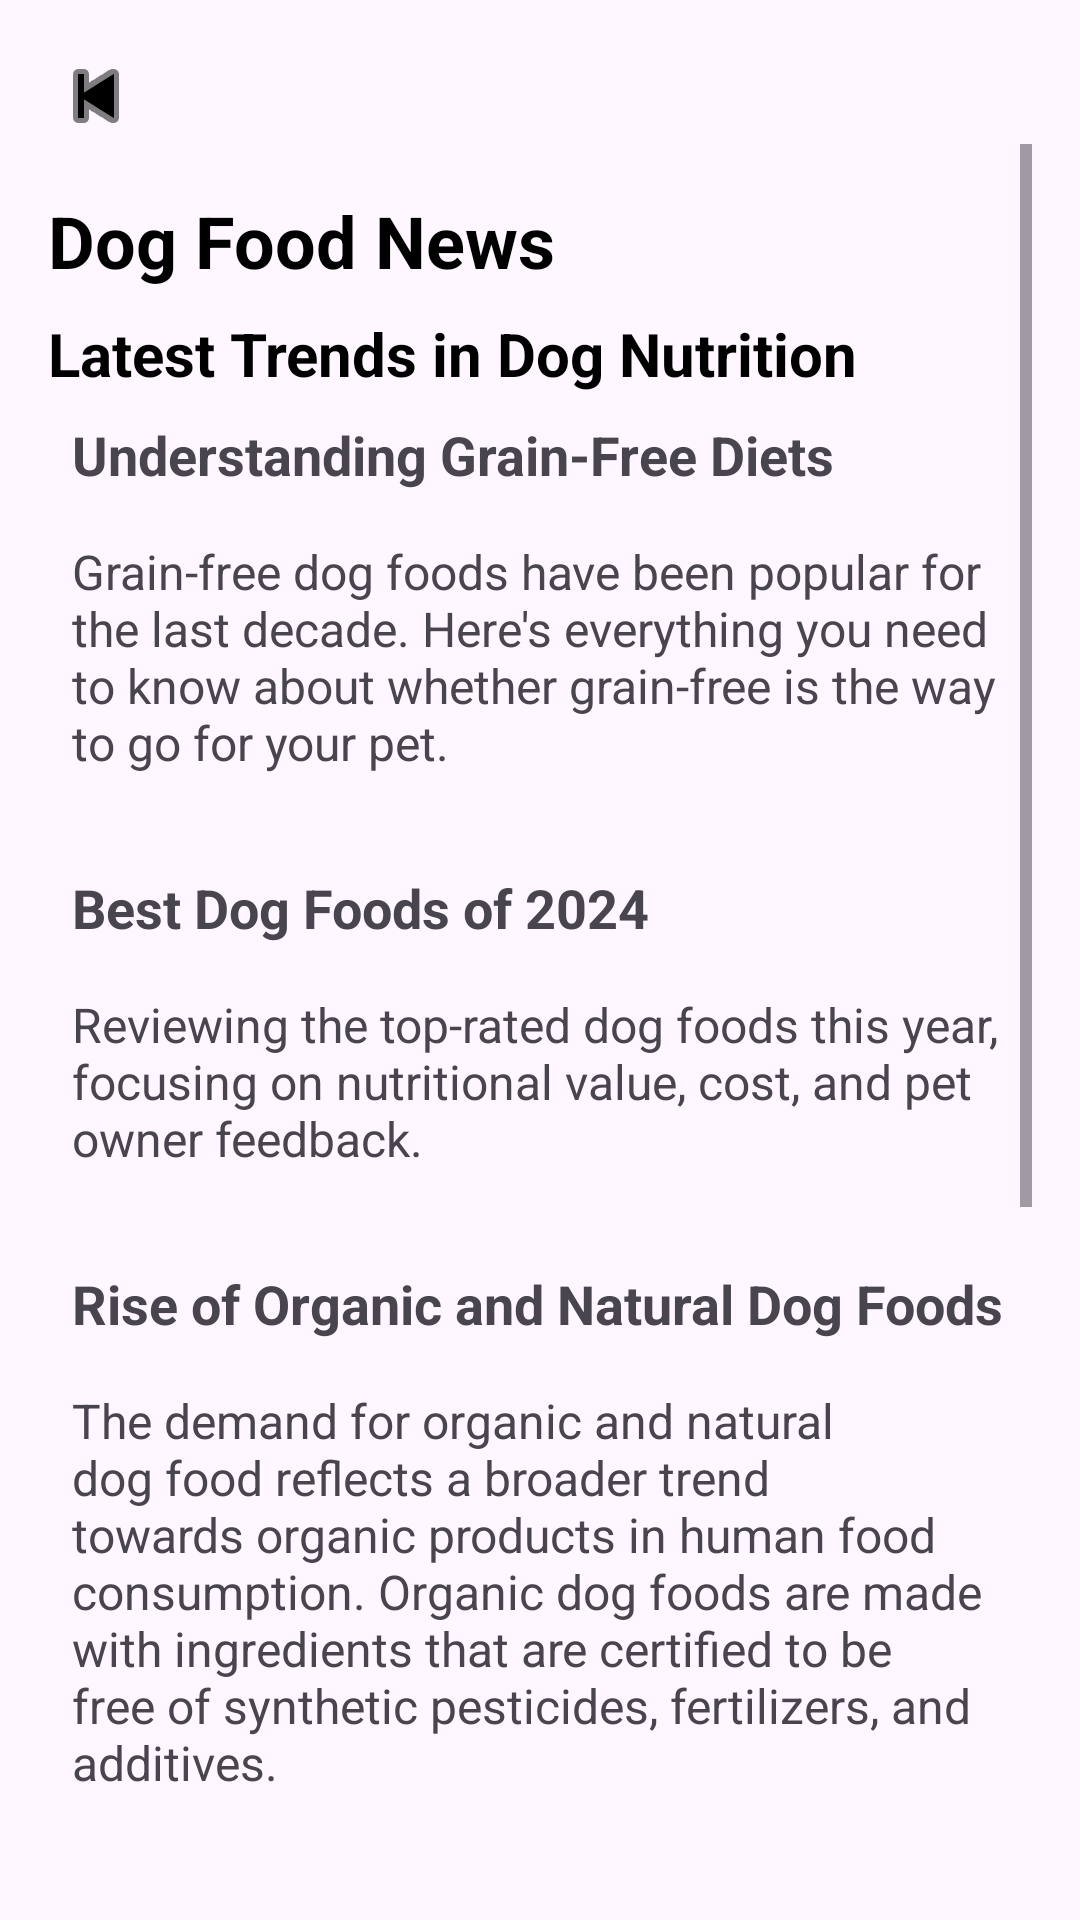

Point at icon controls on the screen. Image size 1080px×1920px, points as (x,y).
Back: (96,96)
